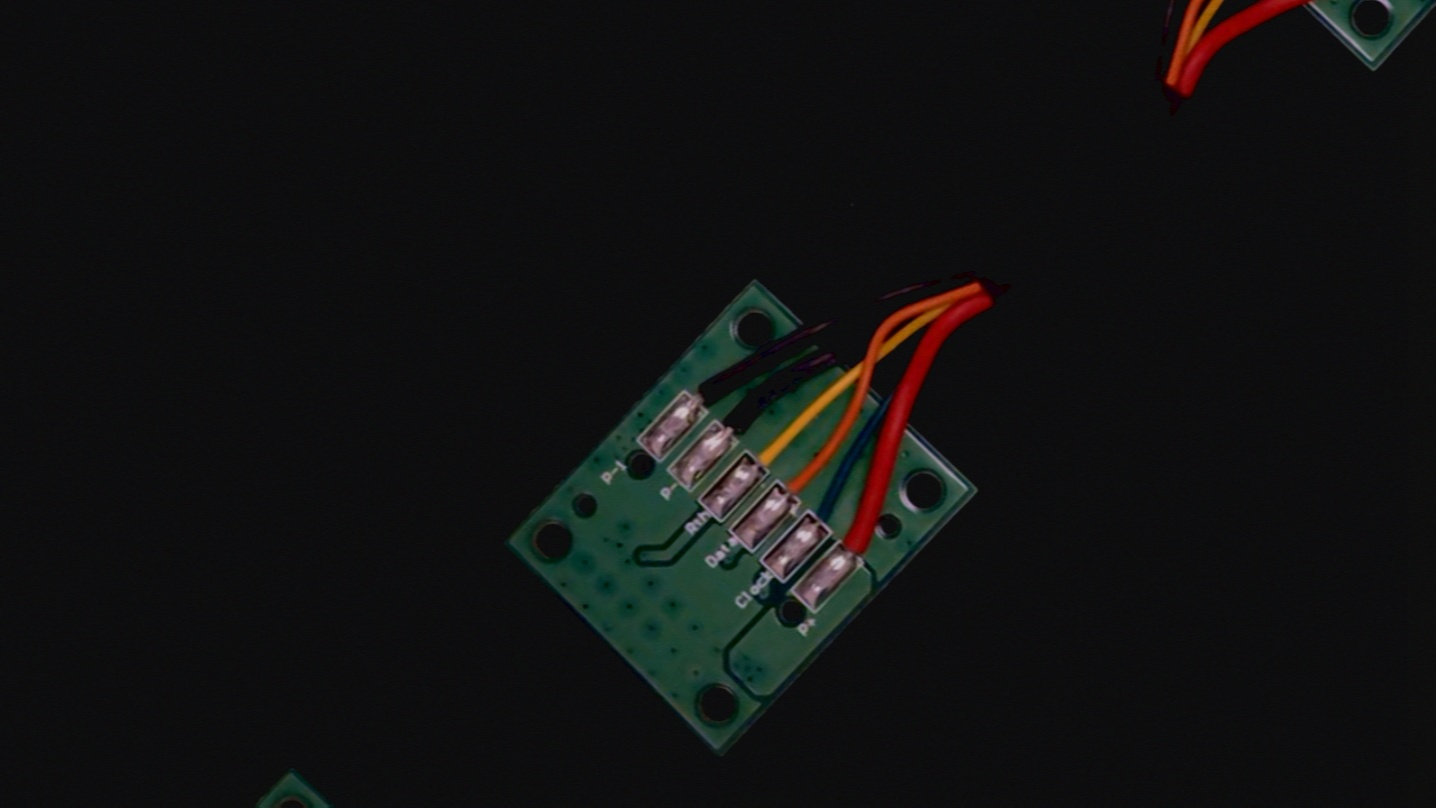Black: (694, 376, 778, 462)
Black1: (665, 348, 743, 429)
Green: (790, 476, 863, 550)
Orange: (759, 435, 841, 519)
Red: (822, 496, 904, 580)
Yellow: (730, 406, 815, 493)
